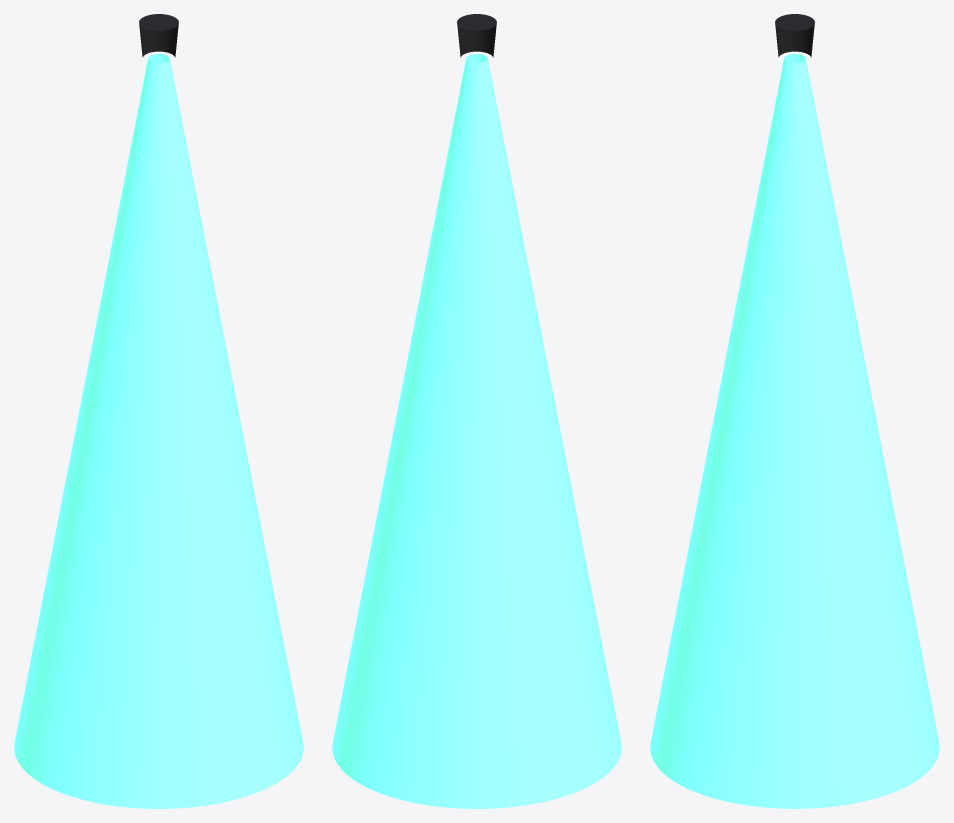
Rendered from beam_onyx.glb.
3 renders of one model, left to right at view 1: azimuth 30°, elevation 25°; view 2: azimuth 150°, elevation 25°; view 3: azimuth 270°, elevation 25°, orthographic.
Parts seen in each view (by area): view 1: beam, can0, can1; view 2: beam, can0, can1; view 3: beam, can0, can1.
Part boxes in pixels (box(x1,y1,x2,y2)): beam: box(14, 54, 303, 808); can0: box(139, 24, 178, 57); can1: box(139, 14, 178, 30); beam: box(332, 54, 621, 808); can0: box(457, 24, 496, 57); can1: box(457, 14, 496, 30); beam: box(650, 54, 939, 808); can0: box(775, 24, 814, 57); can1: box(775, 14, 814, 30).
Bounding box in the file's own units: 1.6 × 4.42 × 1.6.
